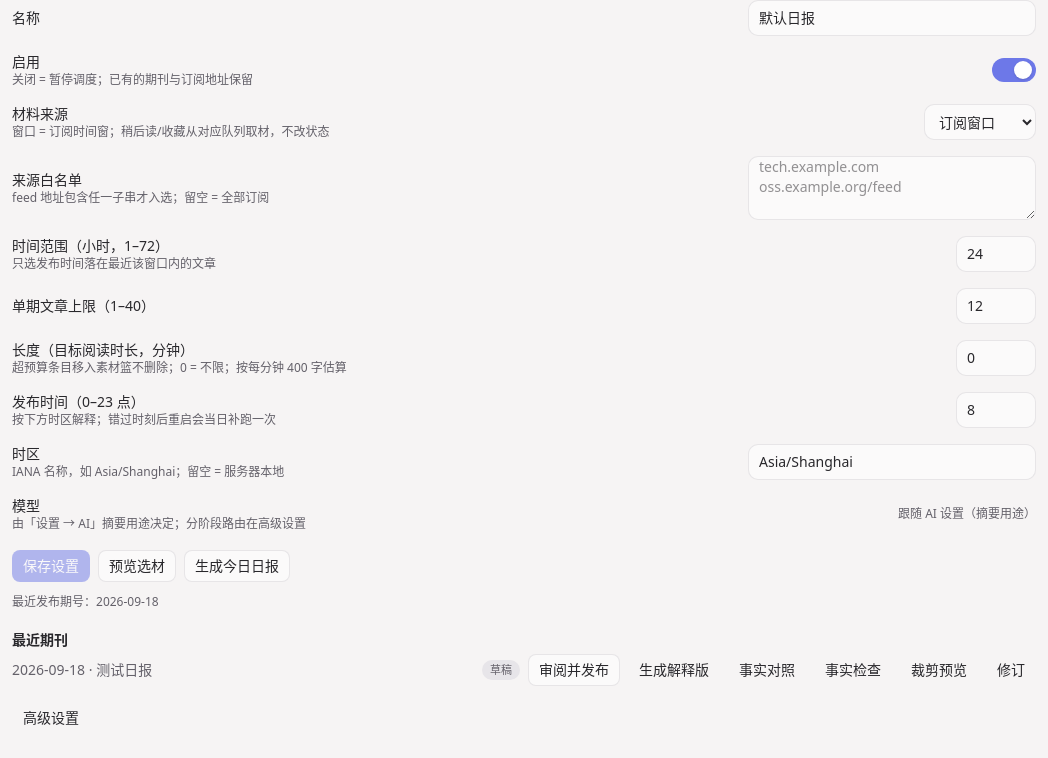
it: 配置面两层结构 › 基础层默认可见（时间范围/上限/长度/发布时间/时区/预览/生成）；高级层默认折叠
(page scrolled)
Check: the number field named "选材窗口小时" is shown, box top-left (956, 236), bottom-right (1036, 272)
Check: the number field named "单期条目上限" is shown, box top-left (956, 288), bottom-right (1036, 324)
Click the button "高级设置": (51, 718) top-left (12, 702), bottom-right (90, 734)
(page scrolled)
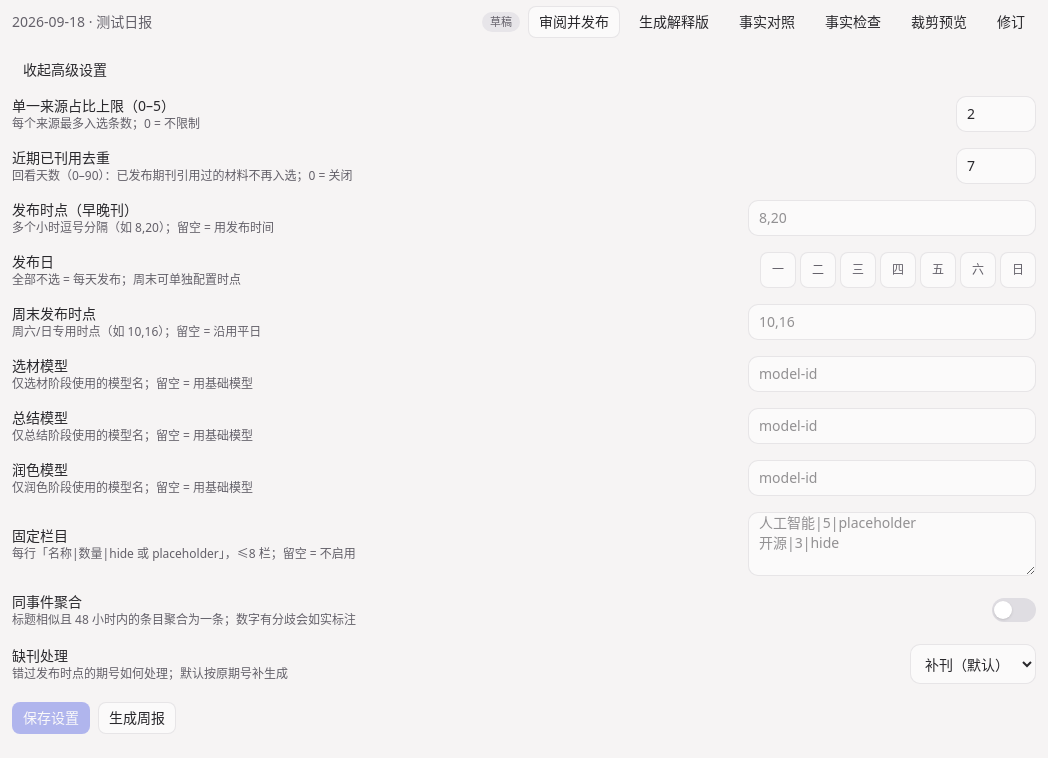
Check: the number field named "单一来源占比上限" is shown, box top-left (956, 96), bottom-right (1036, 132)
Check: the number field named "回看去重天数" is shown, box top-left (956, 148), bottom-right (1036, 184)
Check: the field named "发布时点列表" is shown, box top-left (748, 200), bottom-right (1036, 236)
